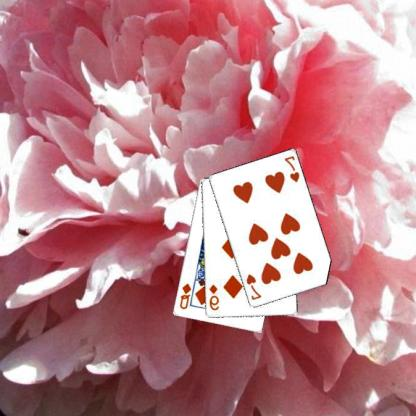6D: (209, 282, 222, 312)
7H: (245, 272, 264, 301), (284, 153, 302, 183)
QD: (178, 281, 194, 310)
